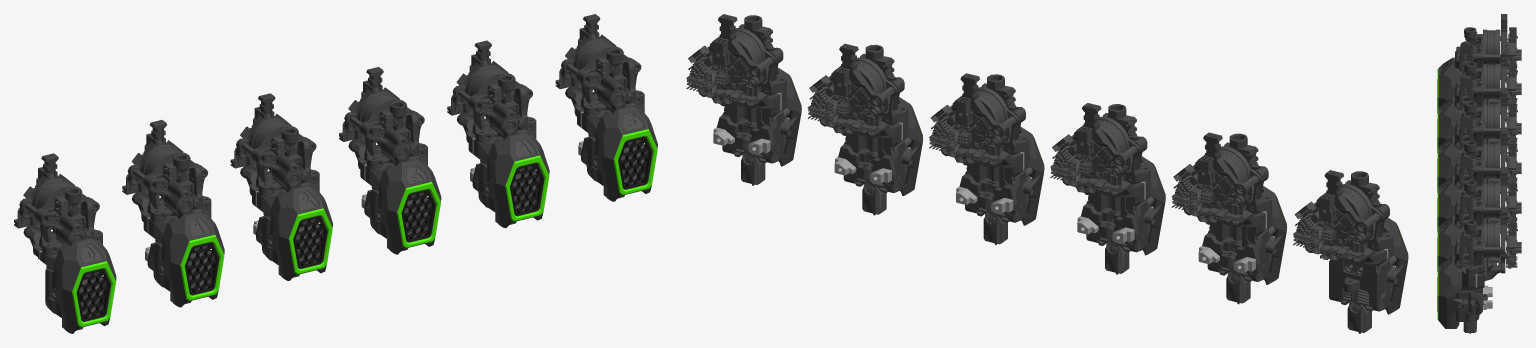
The model's file is tools.glb.
The picture shows the model from 3 angles, left to right: view 1: azimuth 30°, elevation 25°; view 2: azimuth 150°, elevation 25°; view 3: azimuth 270°, elevation 25°; orthographic projection. The views are drawn at different scales.
Visible parts, largest first — view 1: Tool T4 (×4), Tool T1 (×4), Tool T3 (×4), Tool T2 (×4), Tool T5 (×4), Tool T0 (×4); view 2: Tool T2 (×3), Tool T5 (×3), Tool T3 (×3), Tool T4 (×3), Tool T1 (×3), Tool T0 (×2); view 3: Tool T5 (×4), Tool T3 (×3), Tool T2 (×3), Tool T4 (×3), Tool T1 (×3), Tool T0 (×3).
Part boxes in pixels (bbox=[...]): Tool T4 (×4): bbox=[447, 40, 549, 228]; Tool T1 (×4): bbox=[122, 120, 224, 307]; Tool T3 (×4): bbox=[339, 67, 441, 254]; Tool T2 (×4): bbox=[230, 93, 332, 280]; Tool T5 (×4): bbox=[555, 14, 657, 201]; Tool T0 (×4): bbox=[14, 153, 116, 333]; Tool T2 (×3): bbox=[1050, 103, 1165, 274]; Tool T5 (×3): bbox=[686, 14, 801, 185]; Tool T3 (×3): bbox=[929, 73, 1044, 244]; Tool T4 (×3): bbox=[807, 43, 923, 215]; Tool T1 (×3): bbox=[1171, 132, 1287, 304]; Tool T0 (×2): bbox=[1293, 170, 1408, 333]; Tool T5 (×4): bbox=[1437, 206, 1521, 333]; Tool T3 (×3): bbox=[1437, 127, 1521, 227]; Tool T2 (×3): bbox=[1437, 87, 1521, 187]; Tool T4 (×3): bbox=[1437, 167, 1521, 266]; Tool T1 (×3): bbox=[1437, 48, 1521, 147]; Tool T0 (×3): bbox=[1437, 14, 1521, 108].
Bounding box in the file's own units: 0.5278 × 0.1399 × 0.0852.
